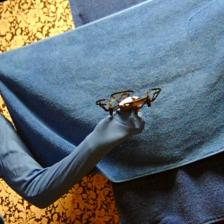drone: (95, 85, 162, 118)
